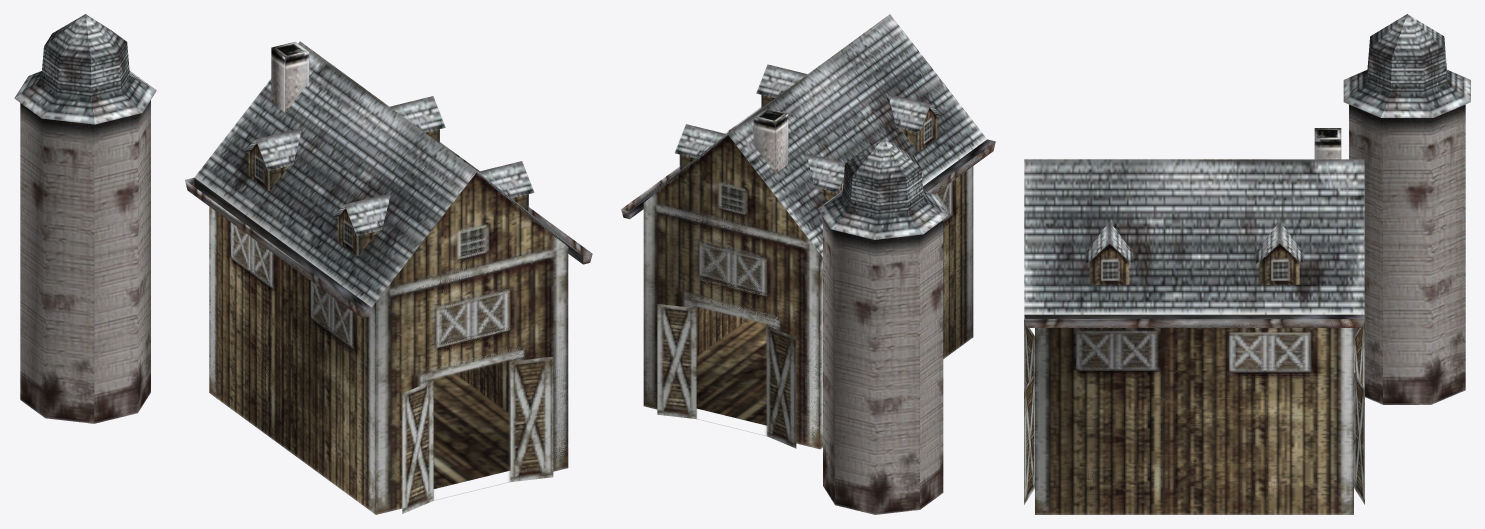
File: Civilian - Civilian Building - Barn Shed - CBBrnShed.glb
3 renders of one model, left to right at view 1: azimuth 30°, elevation 25°; view 2: azimuth 150°, elevation 25°; view 3: azimuth 270°, elevation 25°, orthographic. The views are drawn at different scales.
Visible parts, largest first — view 1: CBBRNSHED; view 2: CBBRNSHED; view 3: CBBRNSHED.
Part boxes in pixels (x1,y1,x2,y2): CBBRNSHED: [14, 14, 592, 514]; CBBRNSHED: [621, 14, 995, 514]; CBBRNSHED: [1024, 14, 1470, 514].
Bounding box in the file's own units: 47.45 × 47.5 × 52.53.
Materials: 2 (2 with a texture image).
